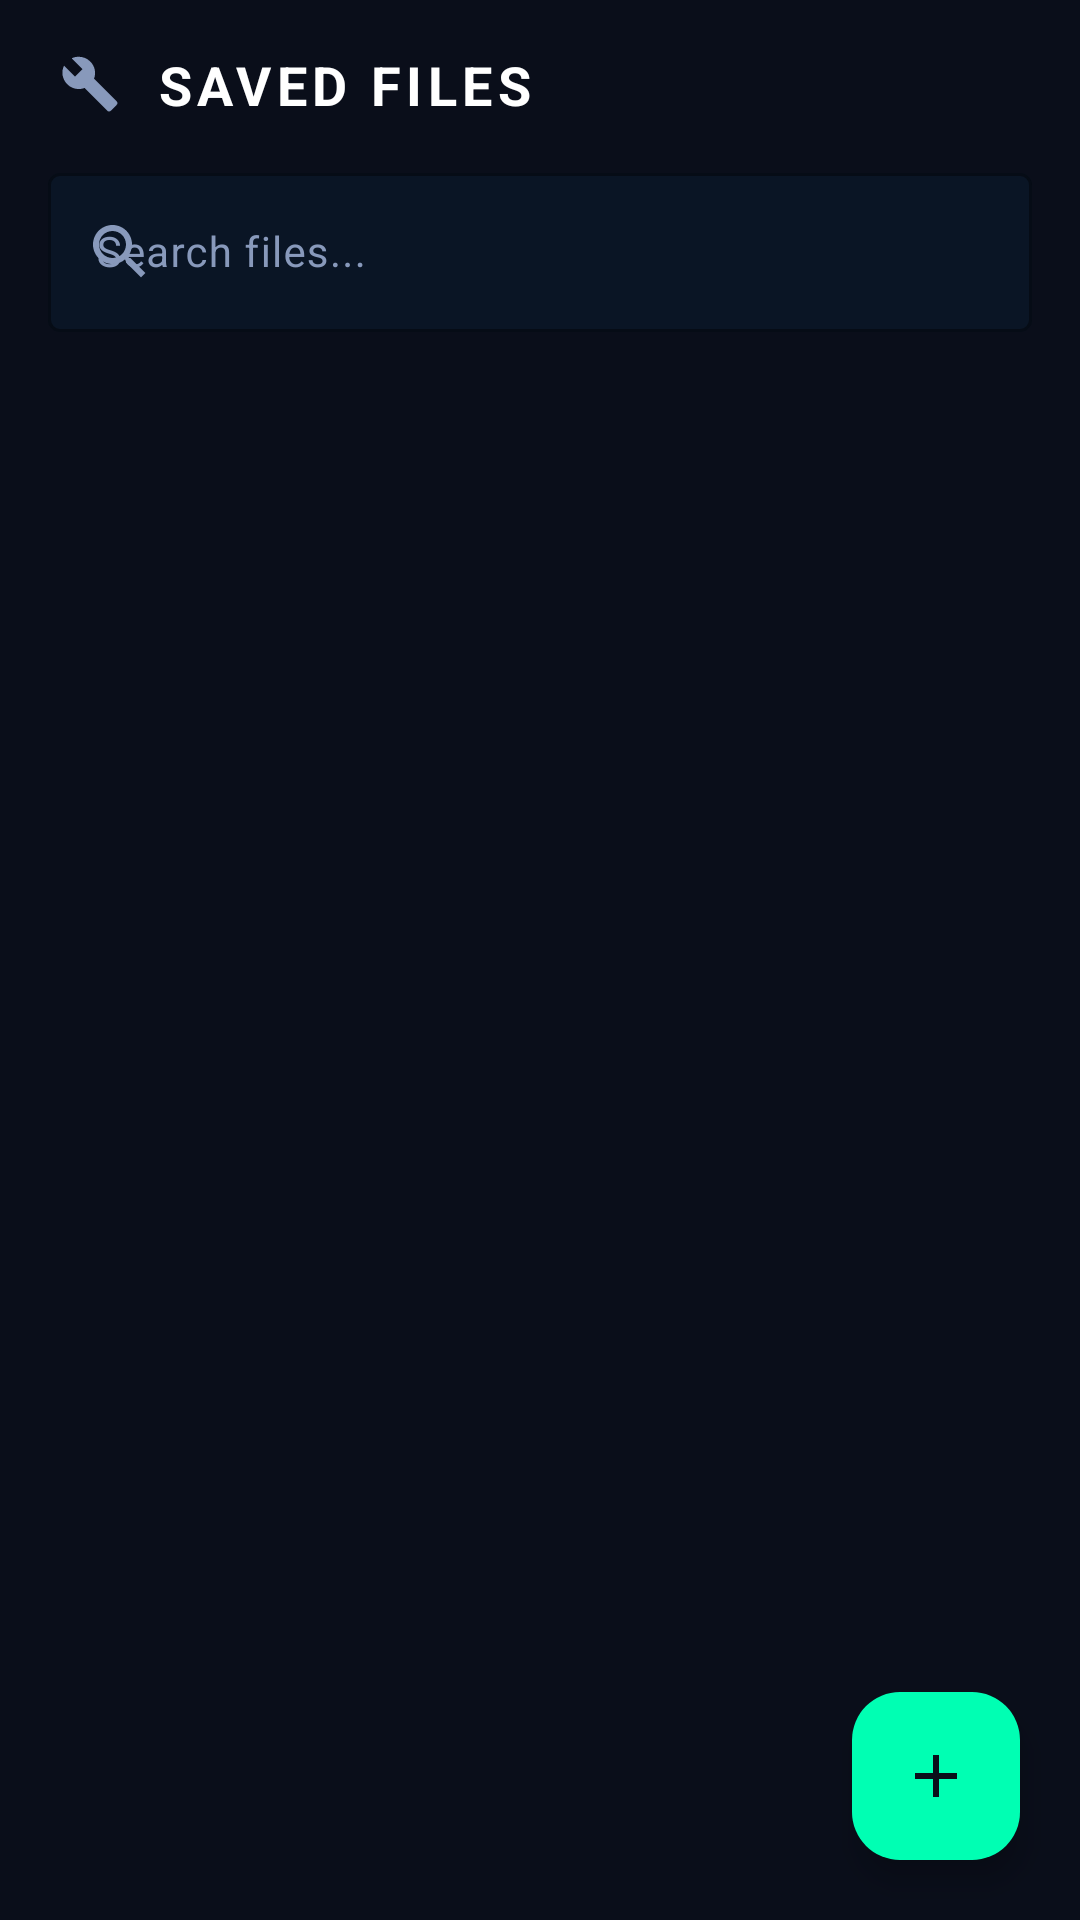

Screen size 1080w x 1920h. Icon name, then its box in pixels as bbox=[x1, y1, x2, y2]:
Add file: bbox=[852, 1692, 1020, 1860]
tools: bbox=[62, 56, 118, 112]
